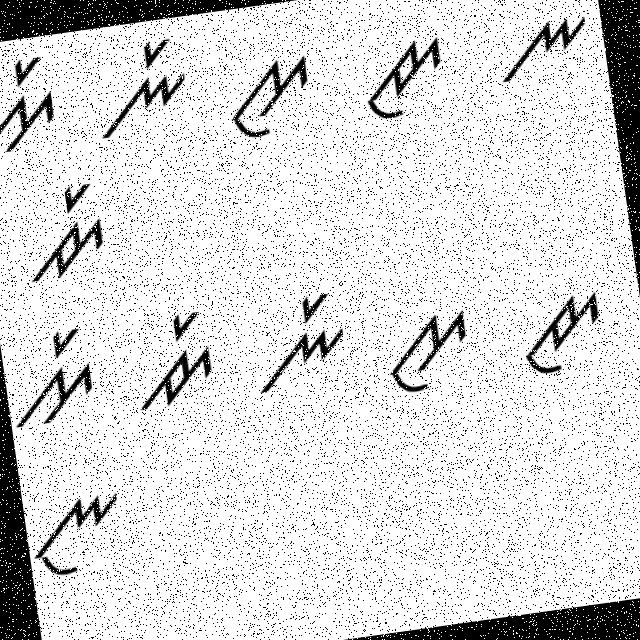jar: (0, 177, 115, 290), (127, 300, 226, 412)
jaw: (24, 481, 133, 584), (354, 22, 458, 127), (506, 283, 612, 381)
nya: (492, 4, 602, 89)
nyar: (241, 280, 356, 404), (84, 28, 200, 146)
sar: (3, 321, 102, 434), (0, 45, 66, 171)
saw: (375, 292, 480, 410), (218, 44, 320, 150)
